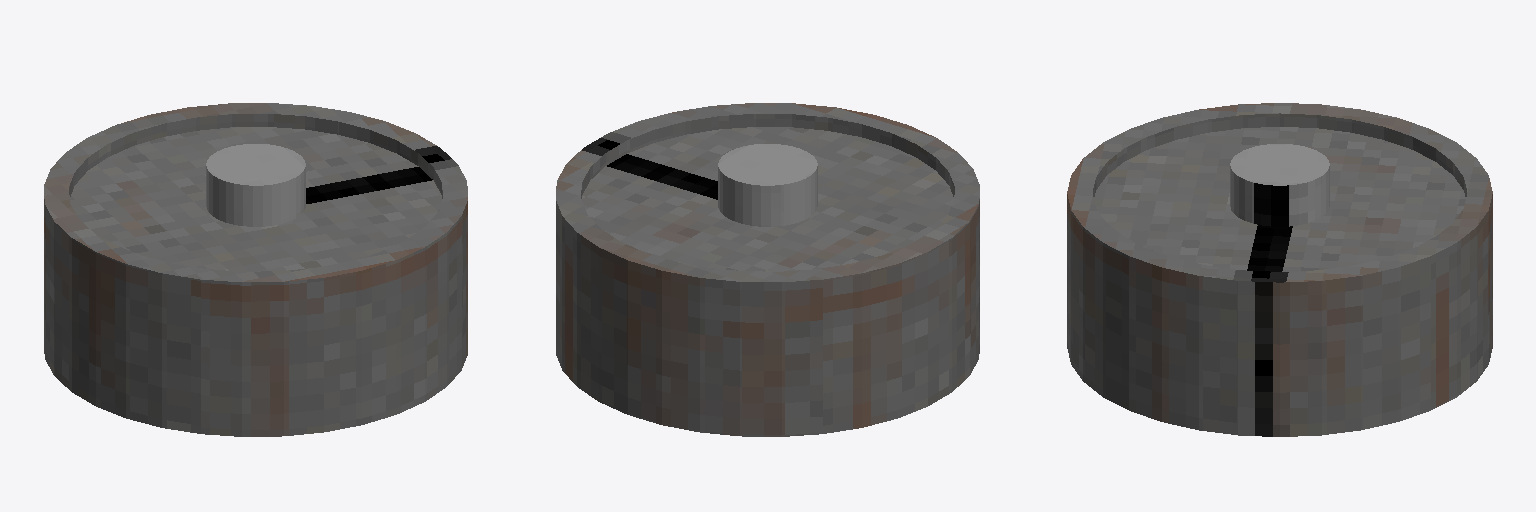
The picture shows the model from 3 angles: view 1: azimuth 30°, elevation 25°; view 2: azimuth 150°, elevation 25°; view 3: azimuth 270°, elevation 25°; orthographic projection.
Visible parts, largest first — view 1: Cylinder; view 2: Cylinder; view 3: Cylinder.
Part boxes in pixels (left/top/right/bottom): Cylinder: left=44, top=103, right=467, bottom=436; Cylinder: left=556, top=103, right=979, bottom=436; Cylinder: left=1067, top=103, right=1492, bottom=436.
Bounding box in the file's own units: 3.27 × 1.55 × 3.27.
1 materials, 1 textured.